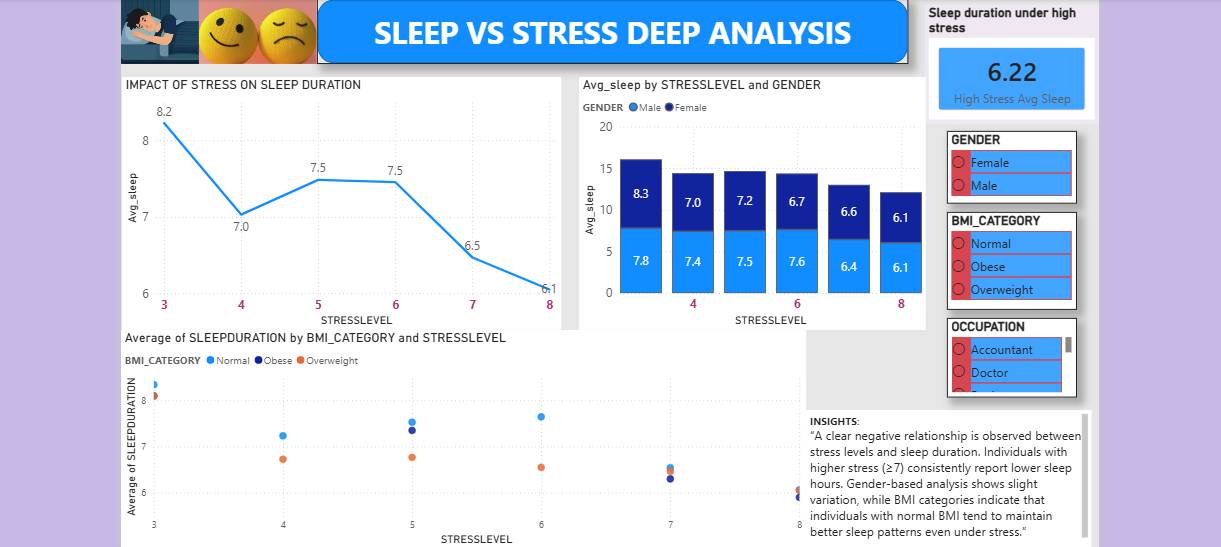

The page's visual inventory and layout, read from the dashboard file:
{"tool":"powerbi","page":{"name":"Sleep vs stress","canvas":[1280,720],"ordinal":1},"visuals":[{"type":"shape","box":[256.1,0,774.1,84.9],"z":0},{"type":"cardVisual","title":"Sleep duration under high stress","fields":{"Data":["Sleep data.High Stress Avg Sleep"]},"box":[1052.6,7.2,227.5,155.5],"z":1000},{"type":"lineChart","title":"IMPACT OF STRESS ON SLEEP DURATION","fields":{"Category":["Sleep data.STRESSLEVEL"],"Y":["Sleep data.Avg_sleep"]},"box":[1.4,102.2,574.6,331.2],"z":2000},{"type":"columnChart","fields":{"Category":["Sleep data.STRESSLEVEL"],"Y":["Sleep data.Avg_sleep"],"Series":["Sleep data.GENDER"]},"box":[599,102.2,453.6,331.2],"z":3000},{"type":"image","box":[0,0,102.2,85],"z":4000},{"type":"scatterChart","fields":{"X":["Sleep data.STRESSLEVEL"],"Y":["Avg(Sleep data.SLEEPDURATION)"],"Series":["Sleep data.BMI_CATEGORY"]},"box":[0,433.4,897.1,286.6],"z":5000},{"type":"textbox","box":[897.1,538.6,374.4,181.4],"z":6000},{"type":"image","box":[102.2,0,154.1,85],"z":7000},{"type":"listSlicer","fields":{"Values":["Sleep data.GENDER"]},"box":[1081.4,173.3,169.9,95],"z":8000},{"type":"listSlicer","fields":{"Values":["Sleep data.BMI_CATEGORY"]},"box":[1081.4,278.9,169.9,128.2],"z":9000},{"type":"listSlicer","fields":{"Values":["Sleep data.OCCUPATION"]},"box":[1081.4,417.6,169.9,103.7],"z":10000}]}

Visuals, with their boxes on the page's 1280x720 design canvas (x1, y1, x2, y2). These are canvas units, not pixel positions in the 1221x547 screenshot, which may show the page scaled, cropped or inside an application window:
shape: bbox(256, 0, 1030, 85)
"Sleep duration under high stress" cardVisual: bbox(1053, 7, 1280, 163)
"IMPACT OF STRESS ON SLEEP DURATION" lineChart: bbox(1, 102, 576, 433)
columnChart - Sleep data.STRESSLEVEL x Sleep data.Avg_sleep: bbox(599, 102, 1053, 433)
image: bbox(0, 0, 102, 85)
scatterChart - Sleep data.STRESSLEVEL x Avg(Sleep data.SLEEPDURATION): bbox(0, 433, 897, 720)
textbox: bbox(897, 539, 1272, 720)
image: bbox(102, 0, 256, 85)
listSlicer - Sleep data.GENDER: bbox(1081, 173, 1251, 268)
listSlicer - Sleep data.BMI_CATEGORY: bbox(1081, 279, 1251, 407)
listSlicer - Sleep data.OCCUPATION: bbox(1081, 418, 1251, 521)
